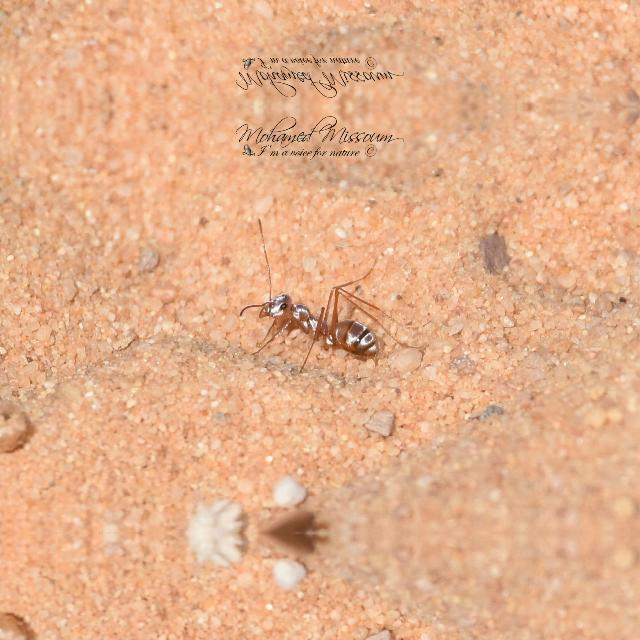Cataglyphis: (246, 282, 398, 364)
